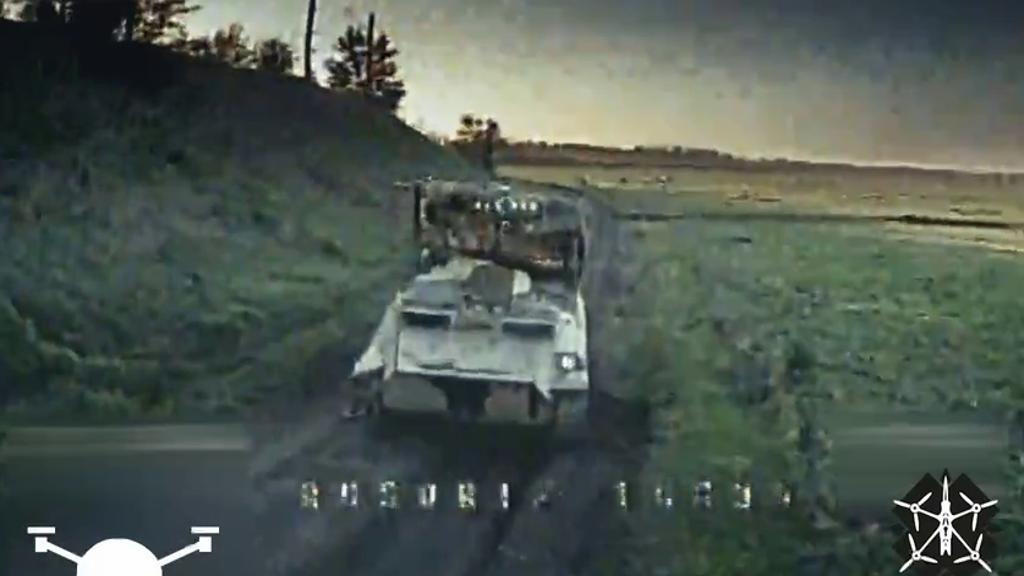APC-IFV: (337, 173, 593, 442)
